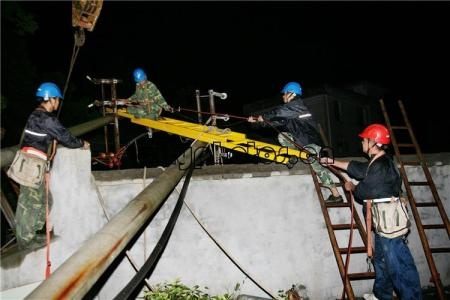blue: (36, 81, 61, 112), (281, 79, 302, 103), (133, 67, 146, 85)
red: (360, 121, 389, 157)
